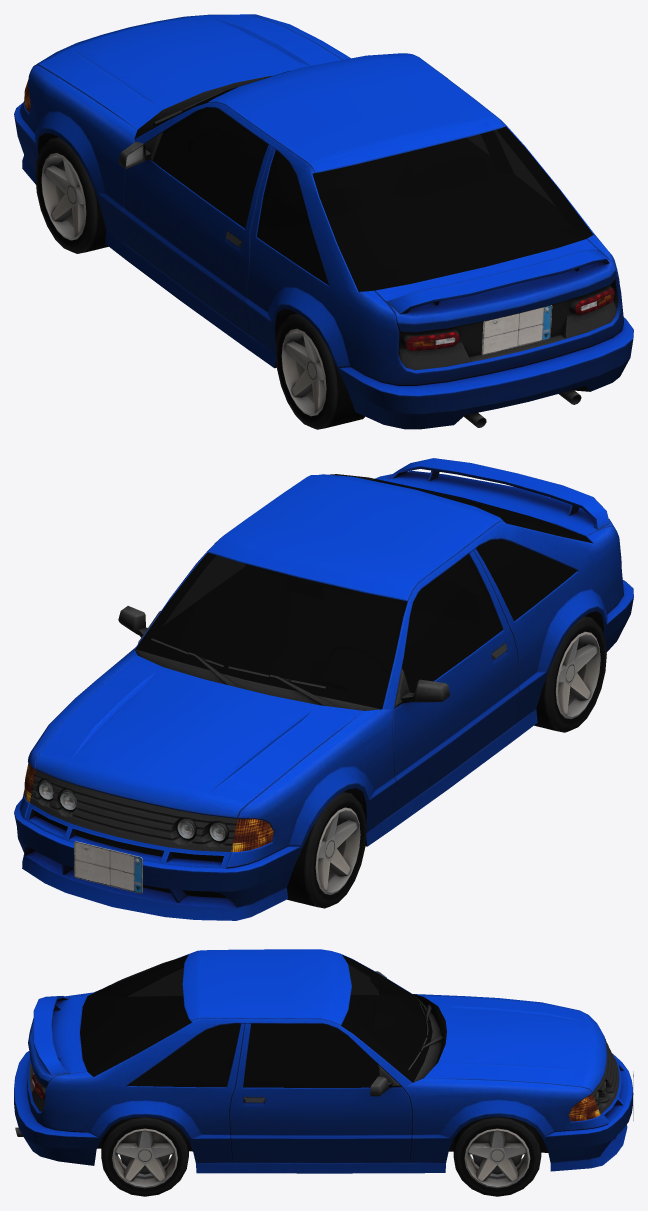
Rendered from coupe.glb.
3 views of the same model, one above another, from view 1: azimuth 30°, elevation 25°; view 2: azimuth 150°, elevation 25°; view 3: azimuth 270°, elevation 25° (orthographic). The views are drawn at different scales.
Visible parts, largest first — view 1: Coupe Body_Body_0, Coupe Body_Glass_0, Tire_RL_0, Tire_FL_0, LicensePlate_Rear, Coupe Body_Optics_0; view 2: Coupe Body_Body_0, Coupe Body_Glass_0, Tire_FL_0, Tire_RL_0, LicensePlate_Front, Coupe Body_Optics_0; view 3: Coupe Body_Body_0, Coupe Body_Glass_0, Tire_FR_0, Tire_RR_0, Coupe Body_Optics_0.
Part boxes in pixels (x1,y1,x2,y2): Coupe Body_Body_0: (14, 14, 633, 429); Coupe Body_Glass_0: (140, 71, 593, 291); Tire_RL_0: (275, 313, 365, 429); Tire_FL_0: (35, 137, 108, 253); LicensePlate_Rear: (481, 305, 552, 355); Coupe Body_Optics_0: (24, 80, 614, 350); Coupe Body_Body_0: (14, 458, 633, 920); Coupe Body_Glass_0: (135, 474, 592, 709); Tire_FL_0: (287, 792, 366, 908); Tire_RL_0: (534, 616, 606, 732); LicensePlate_Front: (74, 841, 142, 893); Coupe Body_Optics_0: (24, 763, 273, 851); Coupe Body_Body_0: (14, 949, 632, 1173); Coupe Body_Glass_0: (80, 954, 432, 1087); Tire_FR_0: (453, 1116, 541, 1196); Tire_RR_0: (101, 1117, 188, 1196); Coupe Body_Optics_0: (32, 1074, 600, 1121).
Bounding box in the file's own units: 1.88 × 1.28 × 4.24.
Materials: 6 (4 with a texture image).
